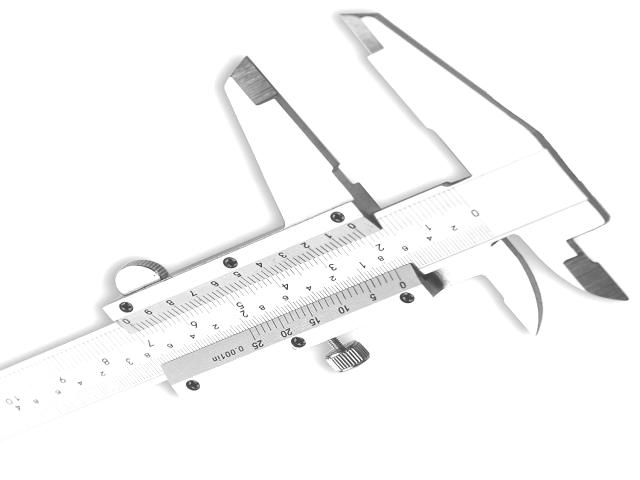Calipers: (0, 14, 628, 446)
